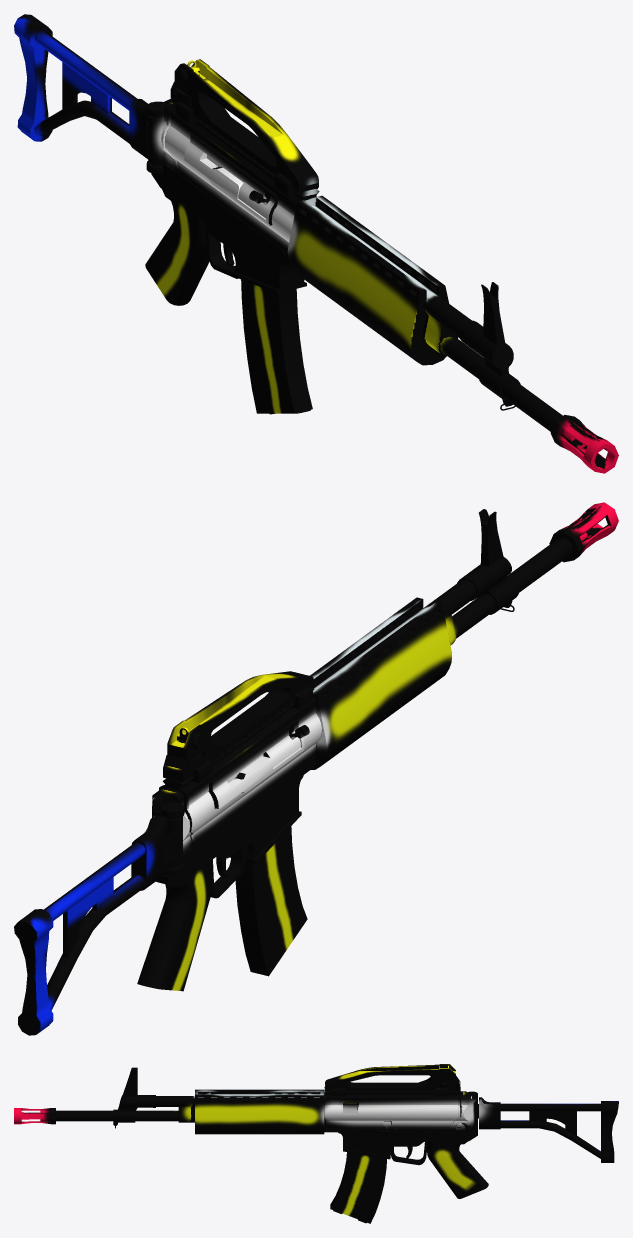
3 renders of one model, top to bottom at view 1: azimuth 30°, elevation 25°; view 2: azimuth 150°, elevation 25°; view 3: azimuth 270°, elevation 25°, orthographic. The views are drawn at different scales.
Visible parts, largest first — view 1: SS2_MainBody.001; view 2: SS2_MainBody.001; view 3: SS2_MainBody.001.
Part boxes in pixels (left/top/right/bottom): SS2_MainBody.001: left=14, top=14, right=618, bottom=473; SS2_MainBody.001: left=14, top=502, right=618, bottom=1035; SS2_MainBody.001: left=14, top=1064, right=618, bottom=1223.
Size of the model in its own units: 601 by 3157 by 11107.
Materials: 1 (1 with a texture image).
